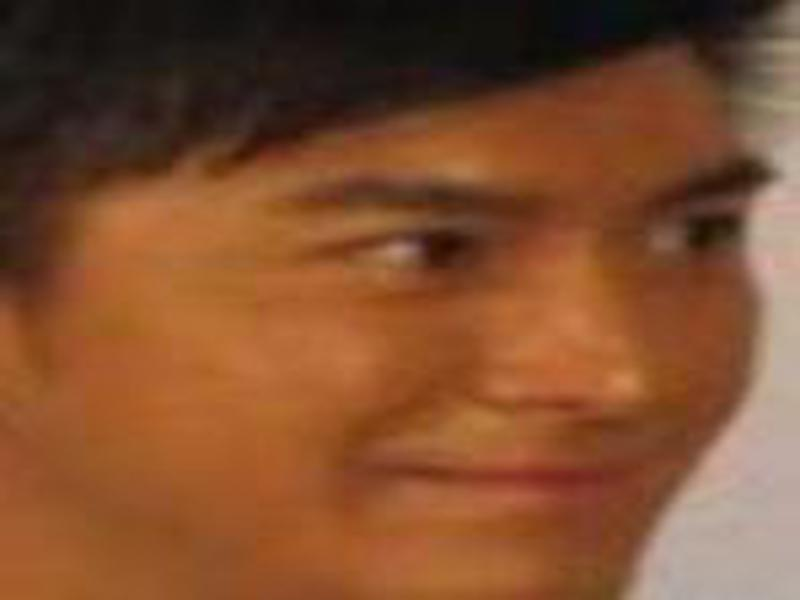without_mask: (20, 66, 768, 600)
